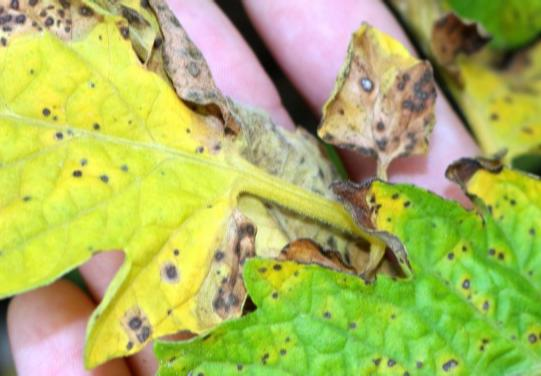Tomato Septoria leaf spot: (44, 190, 541, 376), (0, 0, 269, 330)
